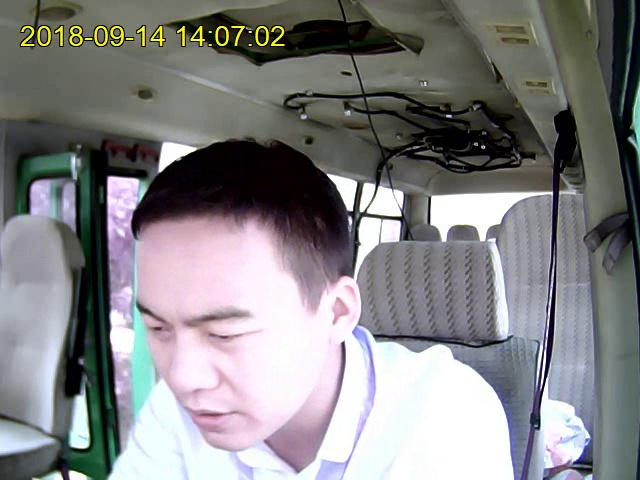closed_mouth: (184, 400, 243, 431)
